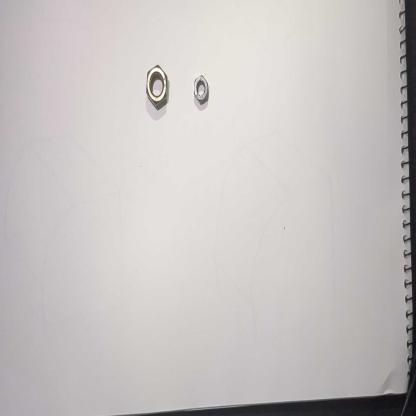NUTS: (138, 58, 176, 114), (190, 70, 213, 108)
